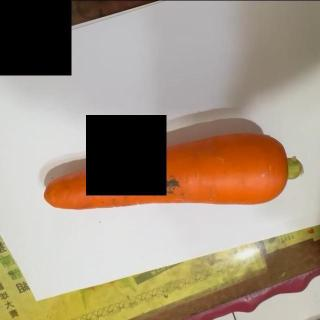carrot: (40, 131, 306, 213)
